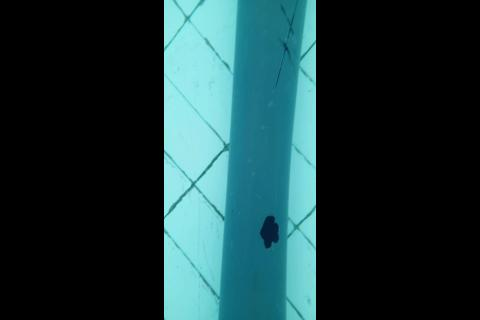kebocoran: (259, 214, 281, 250)
keretakan: (274, 0, 296, 86)
